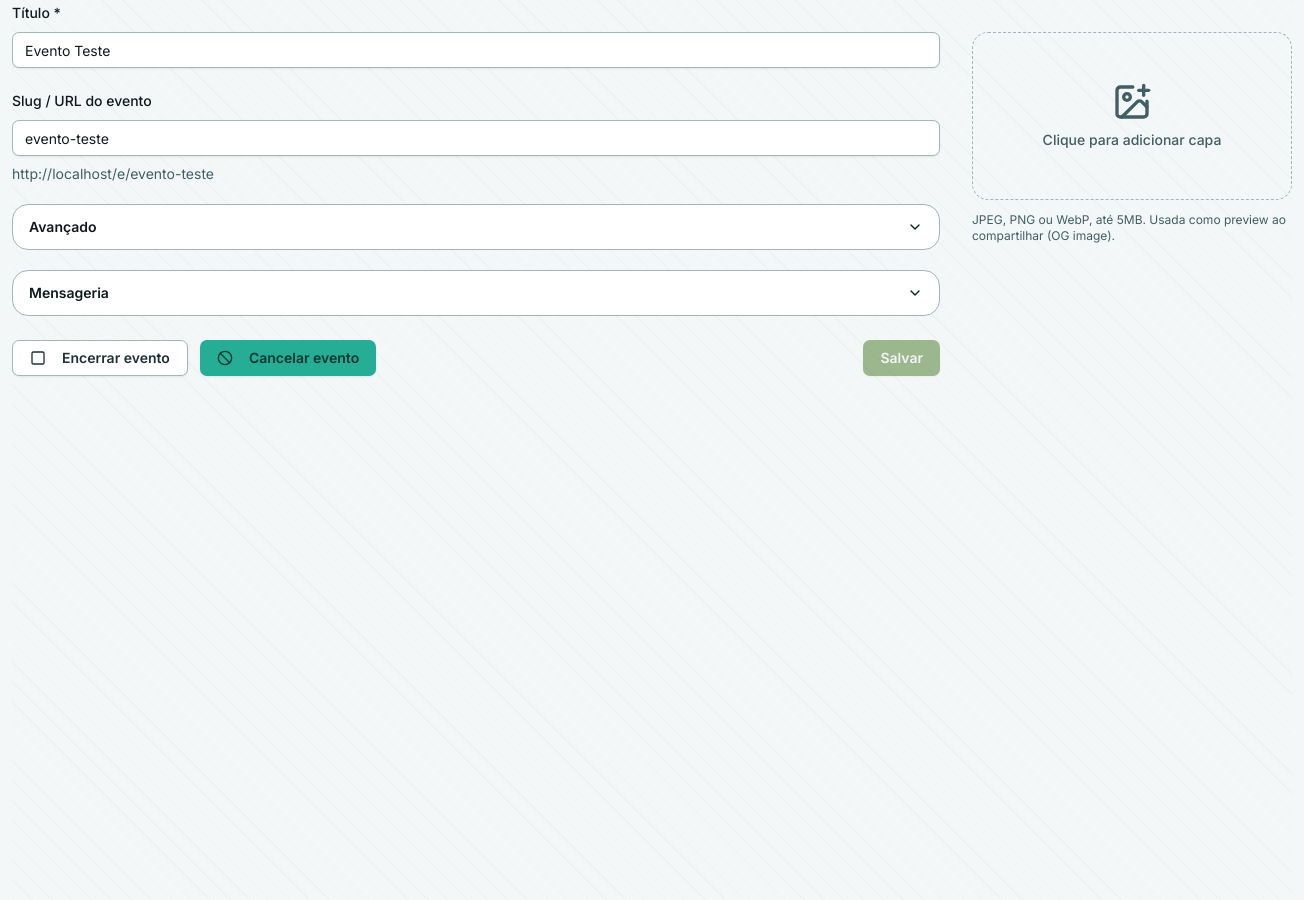
Test: EditEventPage — seleção de instância › mantém a instância salva do evento selecionada após o carregamento
This screenshot has width=1304, height=900.
Note: o campo vive dentro da seção recolhível "Mensageria"
Click the button "Mensageria": (69, 292) [13,271,939,315]
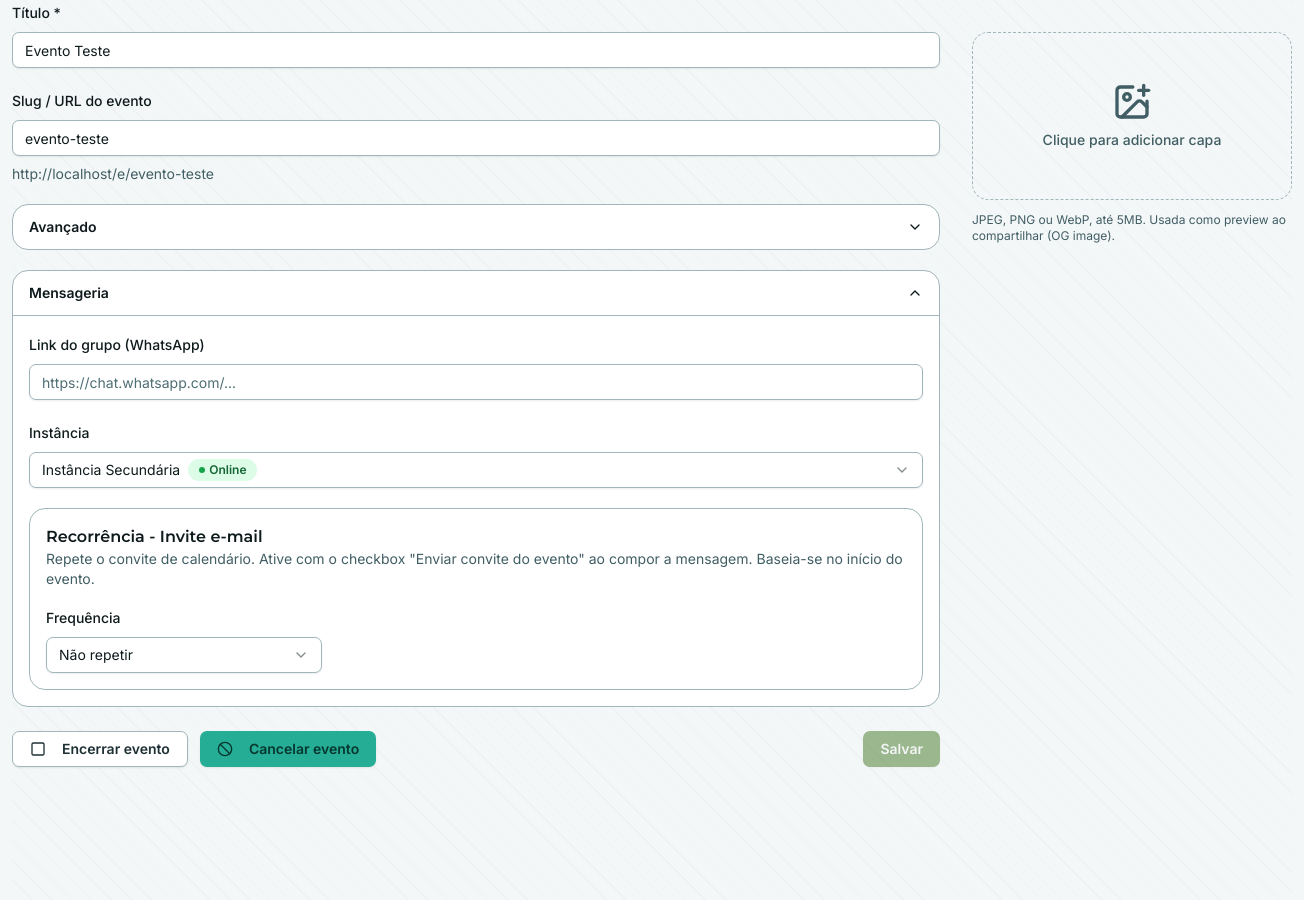
Check: the dropdown labelled "Instância Secundária Online" is shown, box [29,452,923,488]
